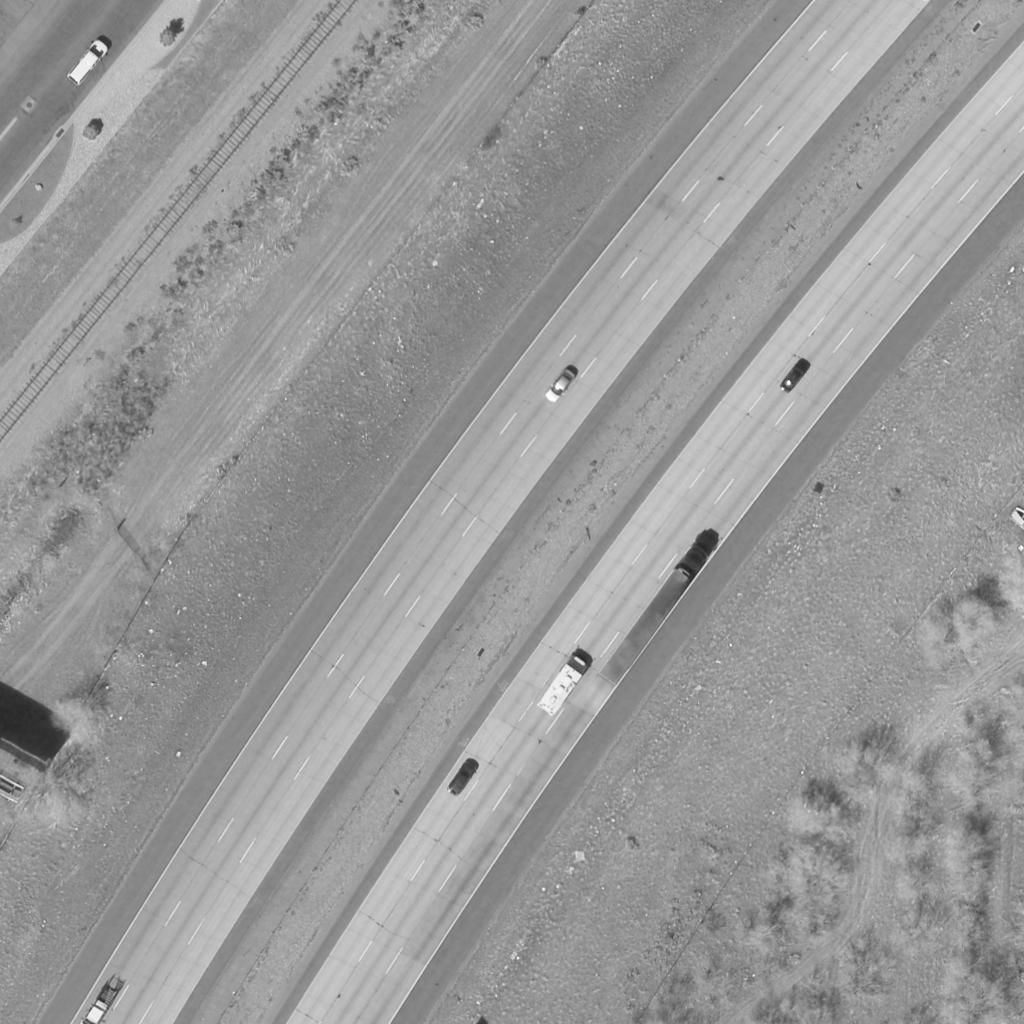vehicle: (601, 534, 719, 686), (536, 655, 590, 717), (65, 40, 109, 88), (79, 984, 121, 1024), (544, 367, 578, 405), (447, 760, 479, 798), (781, 360, 809, 396)
